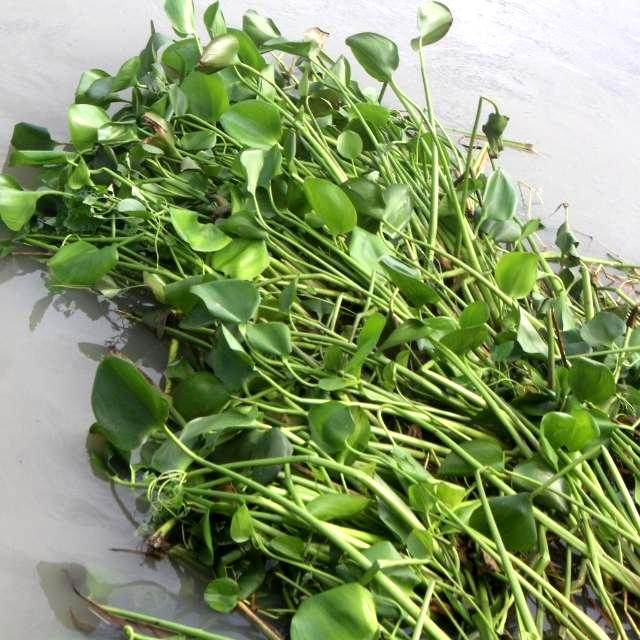water-hyacinth: (9, 4, 640, 640)
